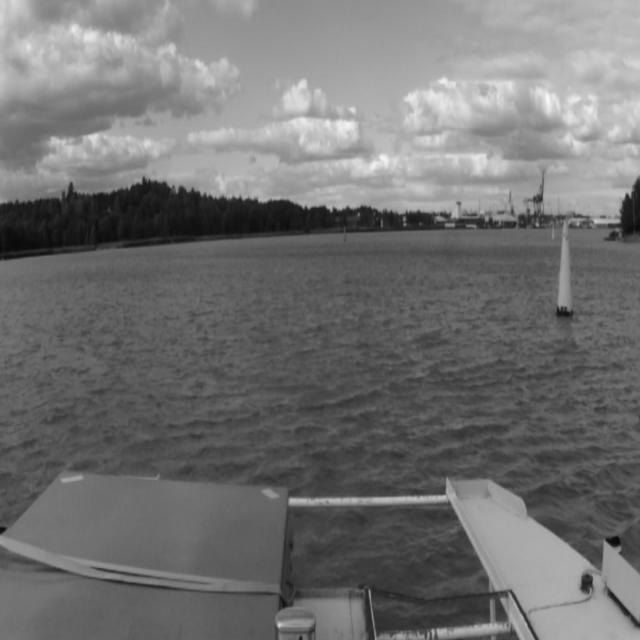buoy: (555, 215, 575, 324), (341, 222, 349, 245), (550, 218, 556, 242)
